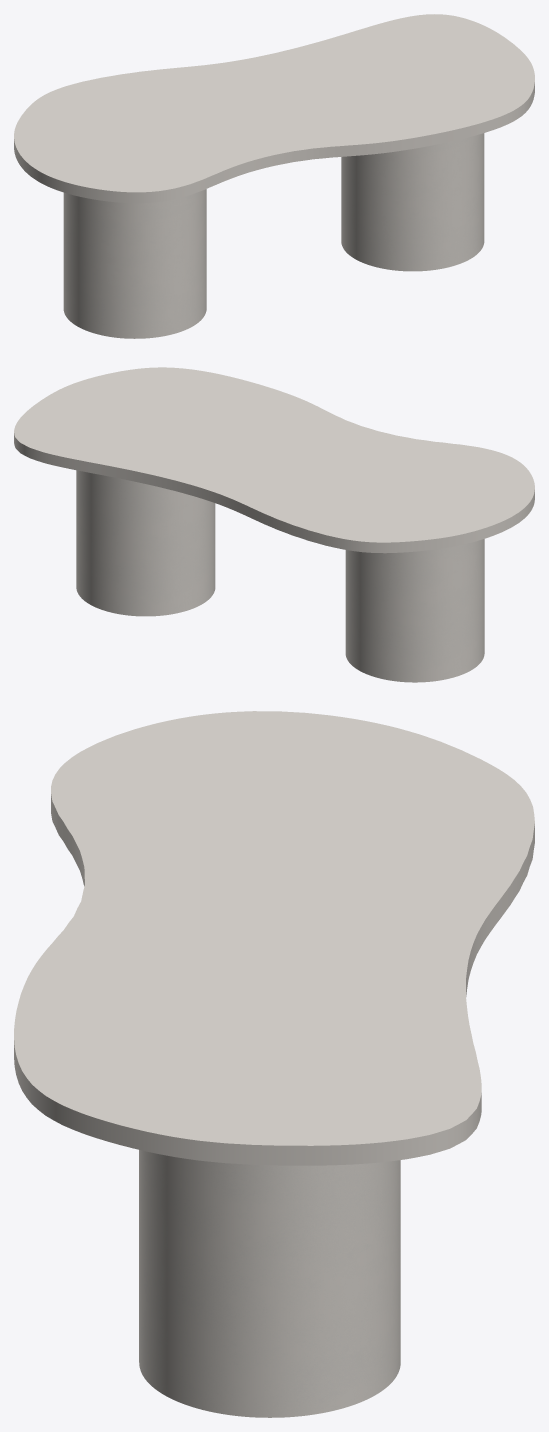
File: pearlwhite_wave_standard_stream.glb
The picture shows the model from 3 angles, top to bottom: view 1: azimuth 30°, elevation 25°; view 2: azimuth 150°, elevation 25°; view 3: azimuth 270°, elevation 25°; orthographic projection. The views are drawn at different scales.
Visible parts, largest first — view 1: wave, tableleg_stream.033; view 2: wave, tableleg_stream.033; view 3: wave, tableleg_stream.033.
Part boxes in pixels (<box>): wave: <box>14,14,534,203</box>; tableleg_stream.033: <box>63,133,484,338</box>; wave: <box>14,367,534,553</box>; tableleg_stream.033: <box>76,470,484,682</box>; wave: <box>14,711,534,1165</box>; tableleg_stream.033: <box>139,1150,400,1417</box>.
Size of the model in its own units: 7.5 by 2.49 by 3.8.
Materials: 1 (1 with a texture image).
